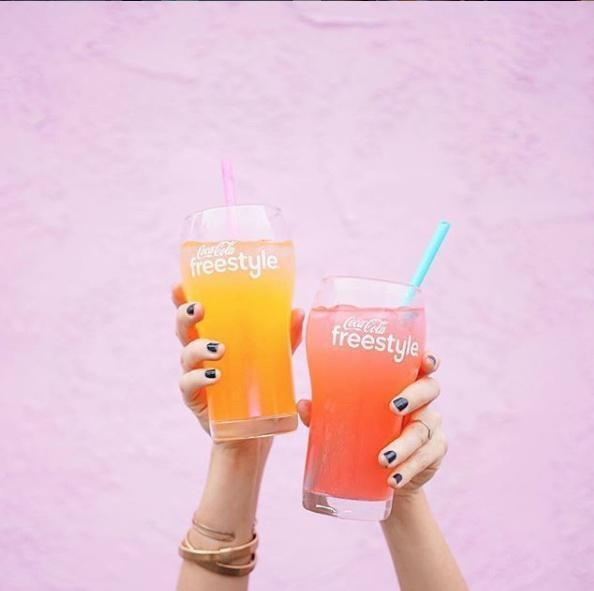glass-normal: (300, 274, 429, 523), (180, 202, 299, 449)
